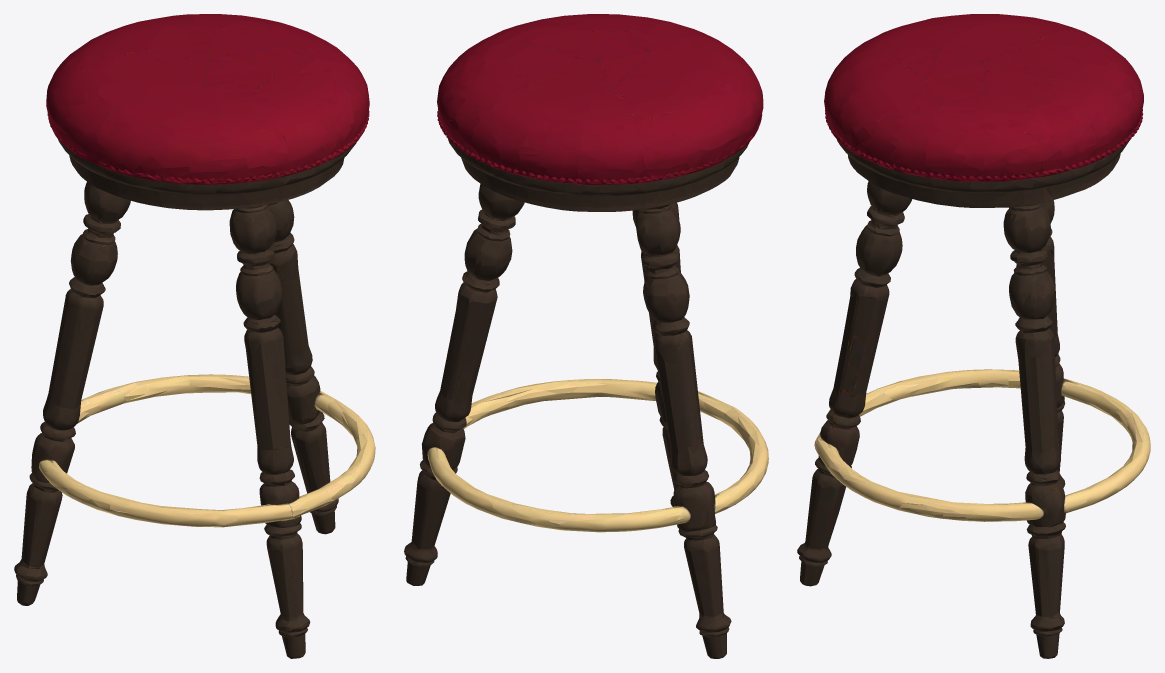
Rendered from stool.glb.
3 renders of one model, left to right at view 1: azimuth 30°, elevation 25°; view 2: azimuth 150°, elevation 25°; view 3: azimuth 270°, elevation 25°, orthographic. The views are drawn at different scales.
Bounding box in the file's own units: 1.2 × 1.9 × 1.16.
Materials: 1 (1 with a texture image).
